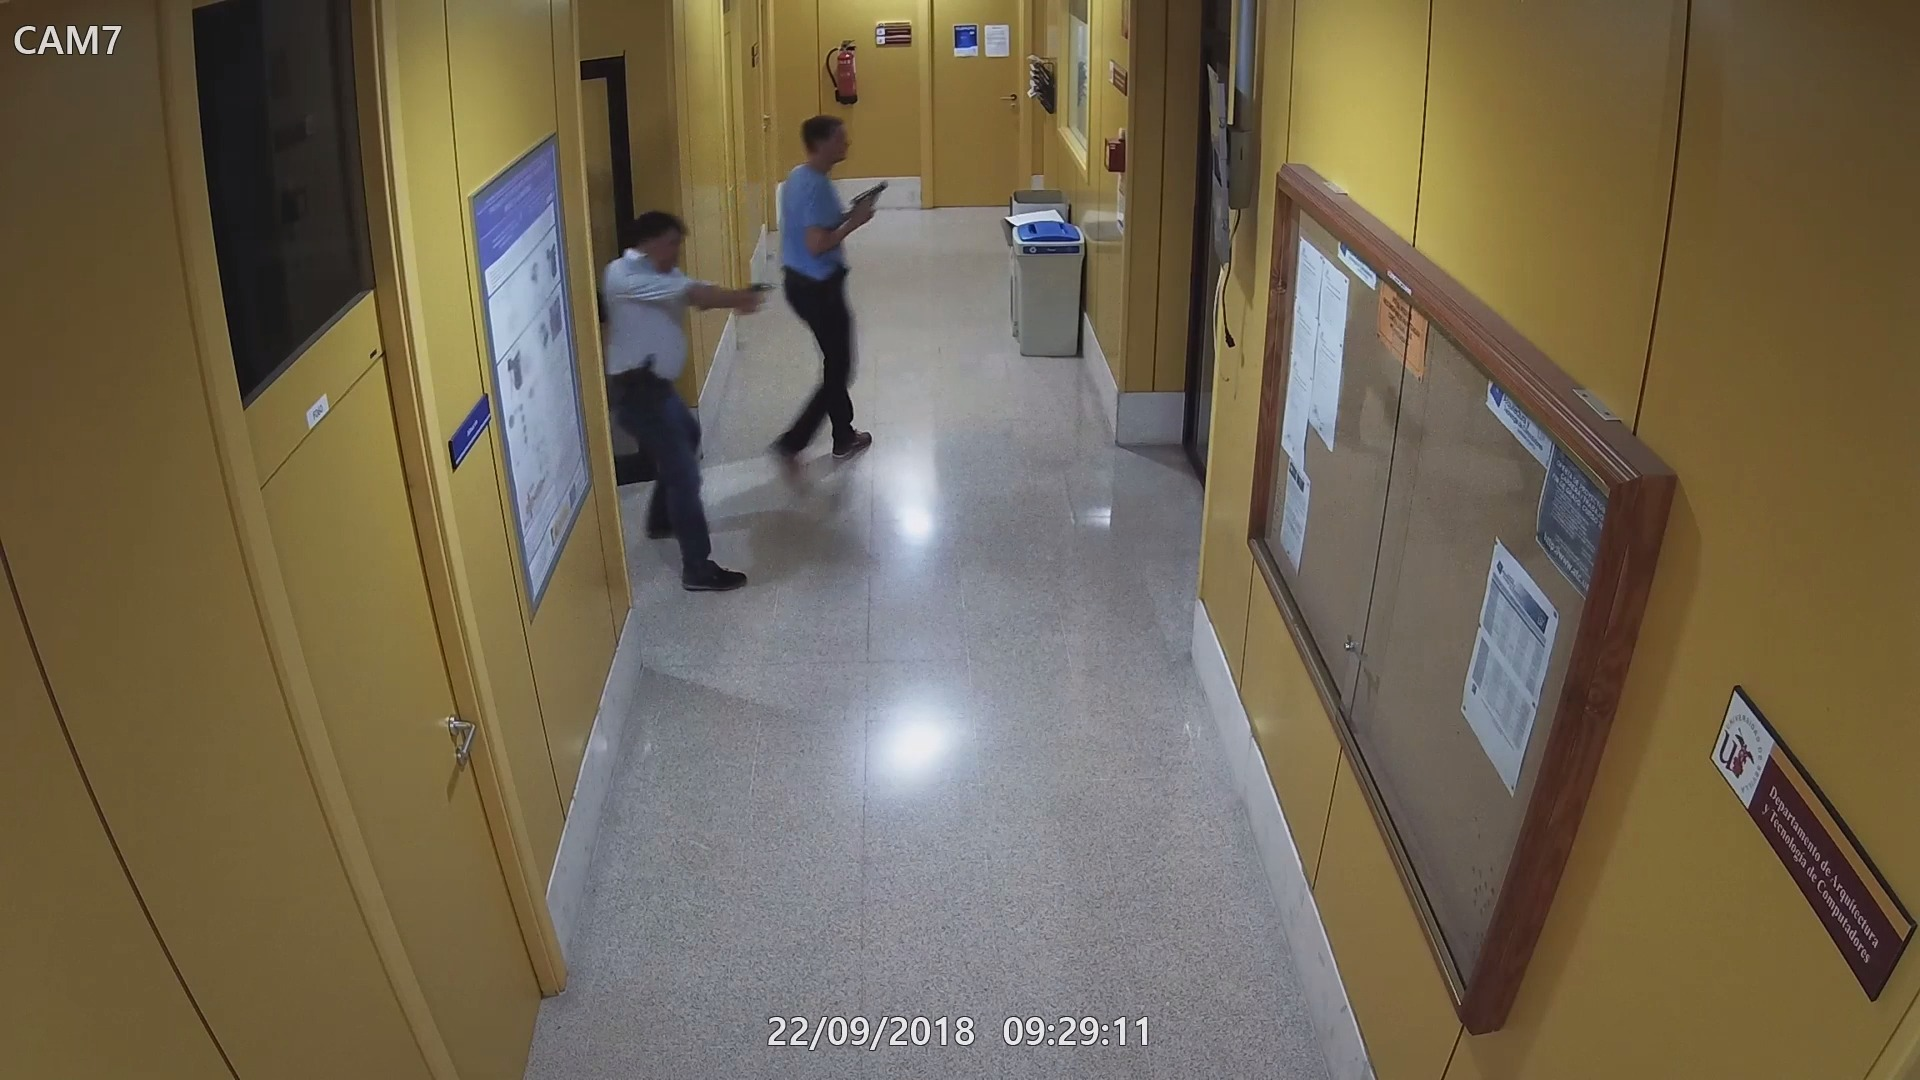Handgun: (851, 171, 893, 222), (738, 278, 789, 314)
